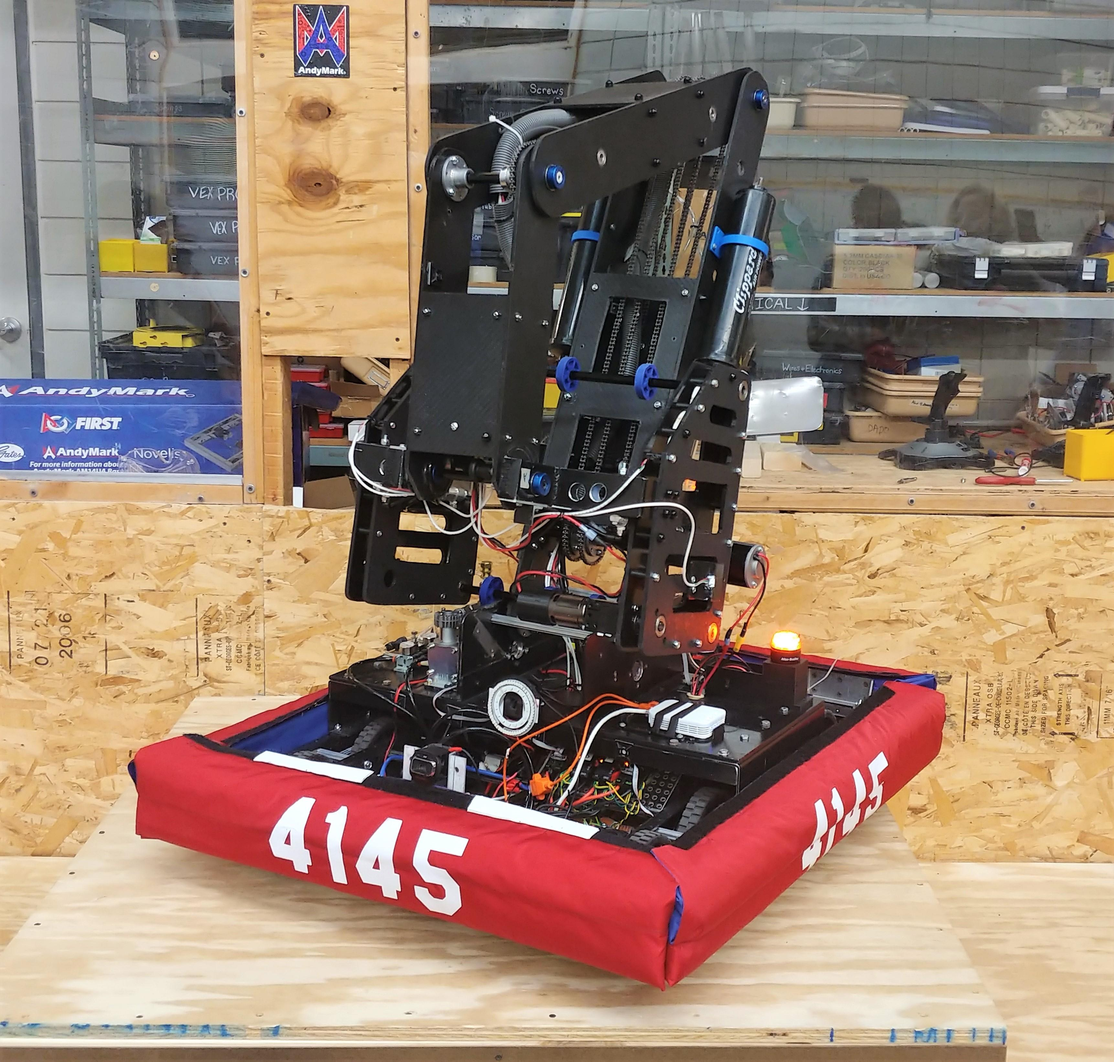robot: (117, 39, 974, 1000)
